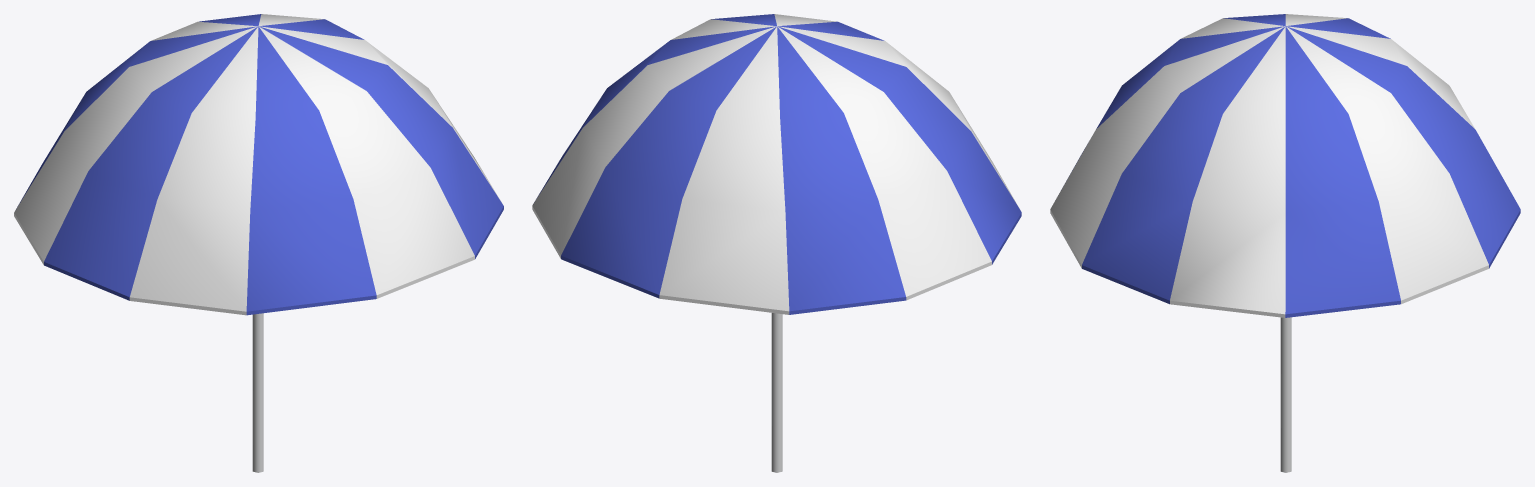
File: Sombrilla.FBX
3 renders of one model, left to right at view 1: azimuth 30°, elevation 25°; view 2: azimuth 150°, elevation 25°; view 3: azimuth 270°, elevation 25°, orthographic.
Visible parts, largest first — view 1: Sombrilla, Palo; view 2: Sombrilla, Palo; view 3: Sombrilla, Palo.
Boxes of the visible parts, x1=… form: Sombrilla: x1=14, y1=14, x2=503, y2=315; Palo: x1=252, y1=313, x2=263, y2=472; Sombrilla: x1=532, y1=14, x2=1021, y2=314; Palo: x1=771, y1=313, x2=782, y2=472; Sombrilla: x1=1050, y1=14, x2=1520, y2=317; Palo: x1=1280, y1=317, x2=1291, y2=472.
Size of the model in its own units: 48.46 by 47.81 by 45.9.
2 materials, 2 textured.
